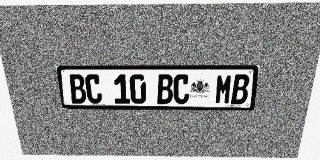0: (129, 74, 146, 104)
1: (113, 74, 130, 104)
B: (231, 74, 250, 104), (68, 74, 87, 103), (157, 74, 173, 104)
C: (84, 74, 103, 104), (173, 74, 190, 104)
M: (215, 74, 233, 104)
